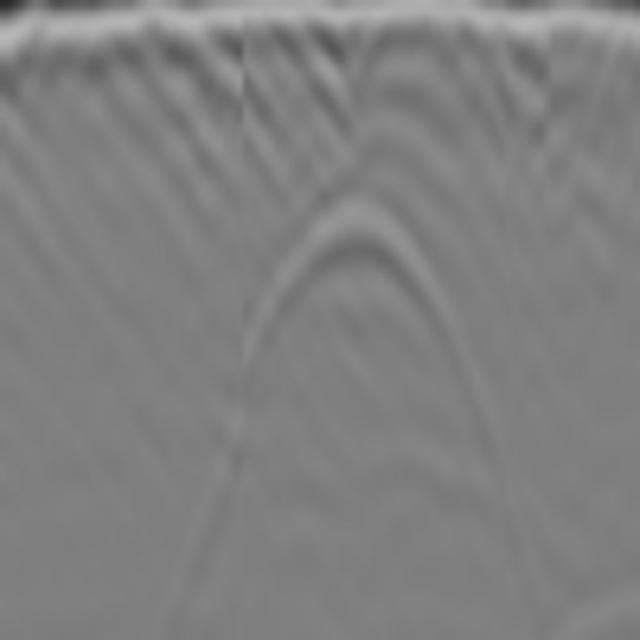hyperbola: (243, 180, 469, 401)
